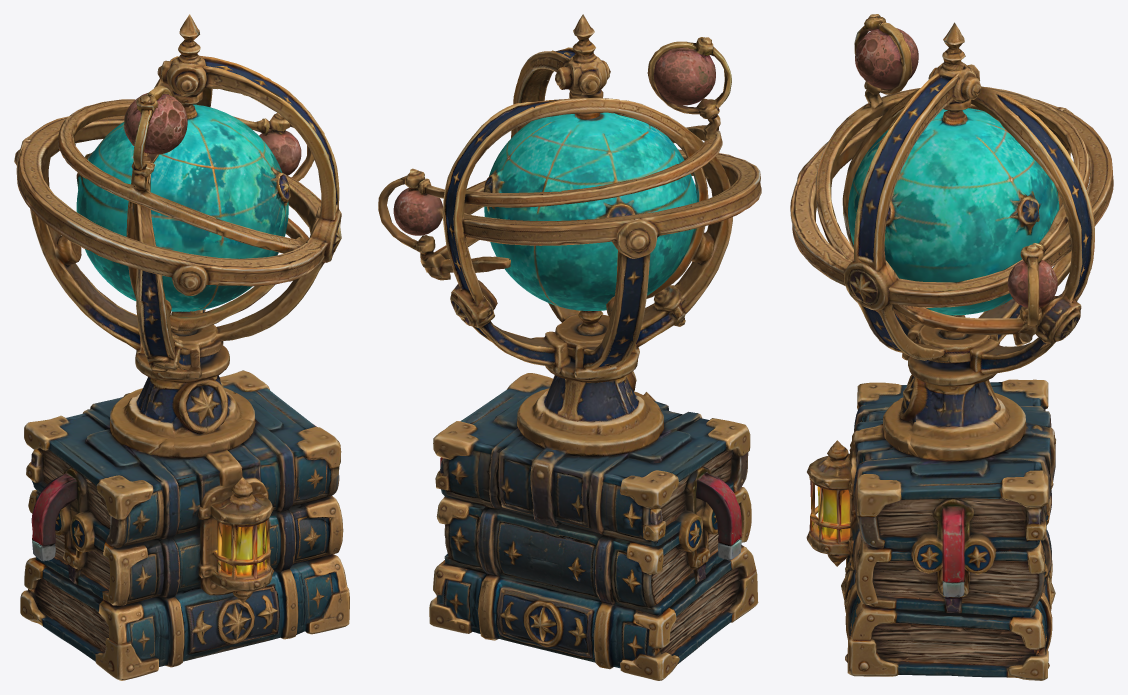
The model's file is academic-orrery.glb.
3 renders of one model, left to right at view 1: azimuth 30°, elevation 25°; view 2: azimuth 150°, elevation 25°; view 3: azimuth 270°, elevation 25°, orthographic.
Parts seen in each view (by area): view 1: tripo_node_d31f03a0-b6f2-42e5-b138-320fa5737f20; view 2: tripo_node_d31f03a0-b6f2-42e5-b138-320fa5737f20; view 3: tripo_node_d31f03a0-b6f2-42e5-b138-320fa5737f20.
Part boxes in pixels (left/top/right/bottom): tripo_node_d31f03a0-b6f2-42e5-b138-320fa5737f20: left=14, top=14, right=349, bottom=680; tripo_node_d31f03a0-b6f2-42e5-b138-320fa5737f20: left=378, top=14, right=761, bottom=680; tripo_node_d31f03a0-b6f2-42e5-b138-320fa5737f20: left=790, top=14, right=1113, bottom=680.
Size of the model in its own units: 0.5404 by 0.9791 by 0.4716.
Materials: 1 (1 with a texture image).
